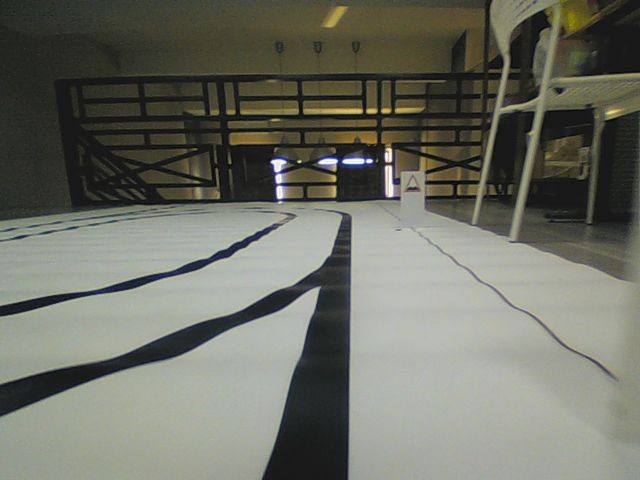Nerov: (403, 172, 422, 193)
